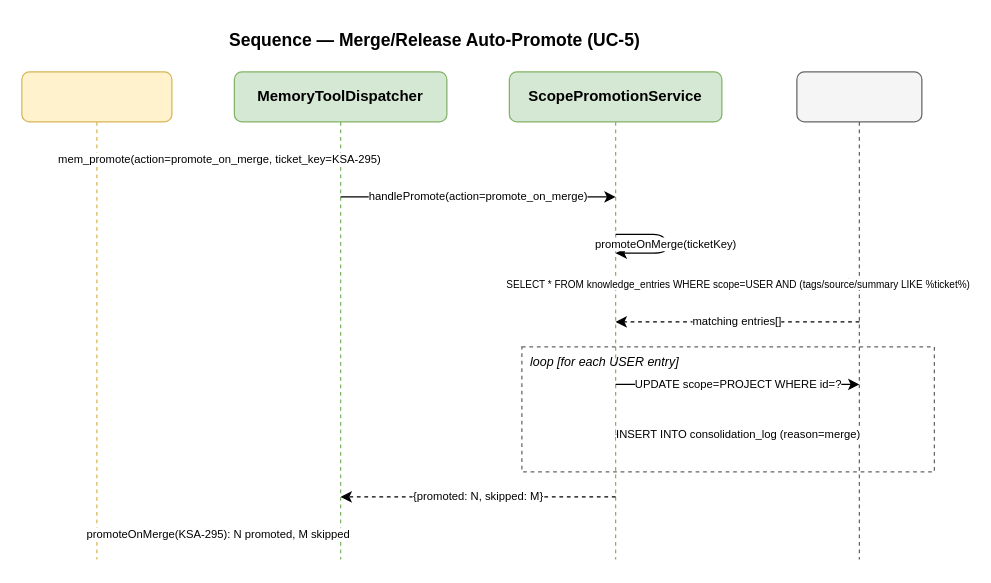
Some shapes in this 991 by 583 pixel diagram are drawn without their labels. Each missing label, with the centre of its shape:
"CI/CD Pipeline" belongs at point (96, 96).
"SQLite DB" belongs at point (859, 96).
